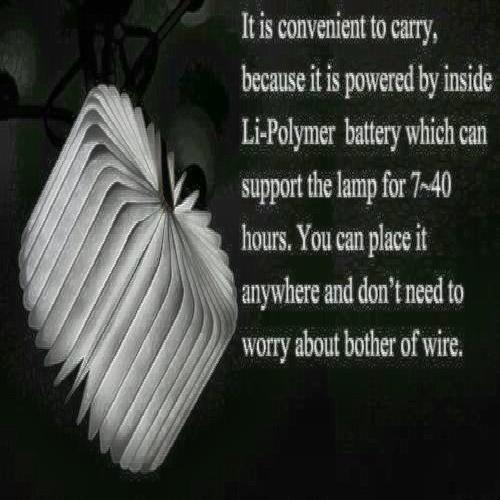lamp: (27, 89, 236, 474)
